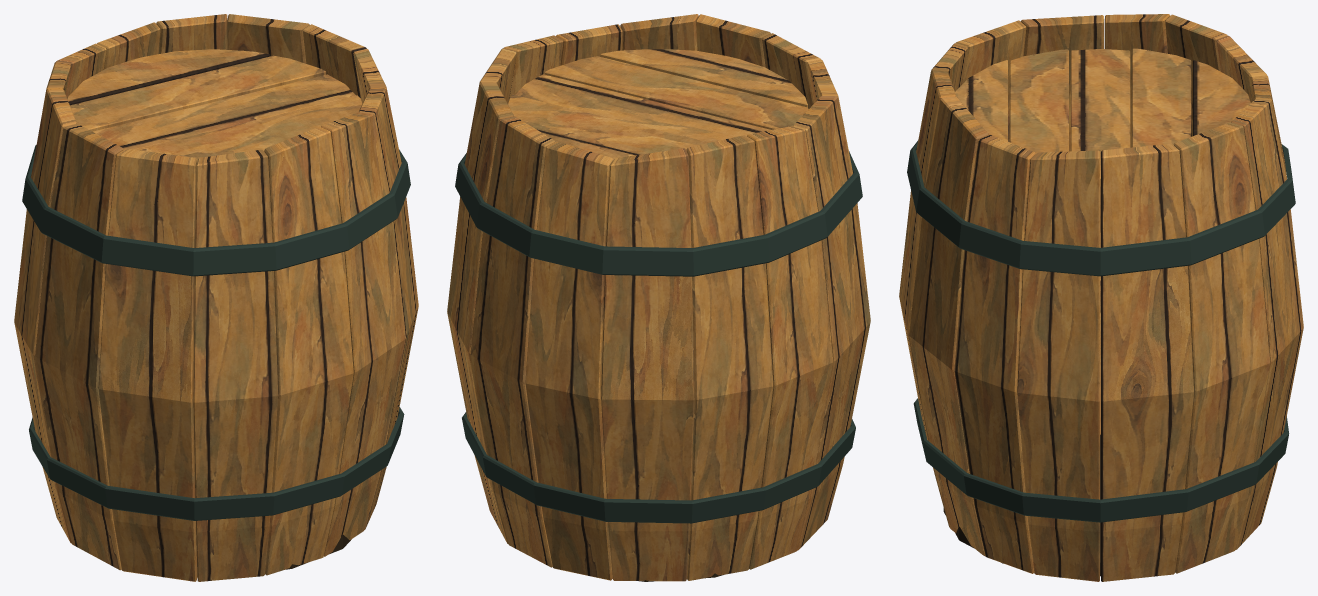
File: aether_barrel_shape_ghibli.fbx
3 renders of one model, left to right at view 1: azimuth 30°, elevation 25°; view 2: azimuth 150°, elevation 25°; view 3: azimuth 270°, elevation 25°, orthographic.
Parts seen in each view (by area): view 1: aether_barrel_shape_ghibli; view 2: aether_barrel_shape_ghibli; view 3: aether_barrel_shape_ghibli.
Part boxes in pixels (x1=…): aether_barrel_shape_ghibli: x1=14, y1=14, x2=418, y2=581; aether_barrel_shape_ghibli: x1=447, y1=14, x2=870, y2=581; aether_barrel_shape_ghibli: x1=899, y1=14, x2=1303, y2=581.
Size of the model in its own units: 93.16 by 107 by 90.31.
Materials: 2 (1 with a texture image).
